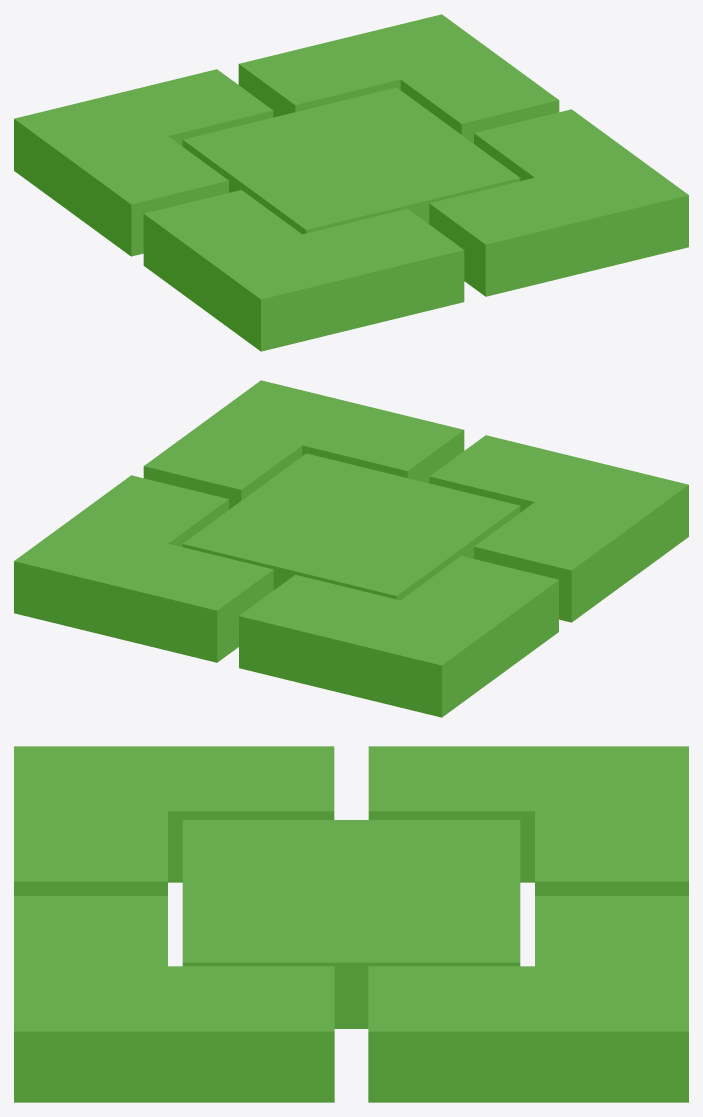
Rendered from enemies_spawn.fbx.
3 views of the same model, one above another, from view 1: azimuth 30°, elevation 25°; view 2: azimuth 150°, elevation 25°; view 3: azimuth 270°, elevation 25° (orthographic). The views are drawn at different scales.
Parts seen in each view (by area): view 1: Cube.001; view 2: Cube.001; view 3: Cube.001.
Part boxes in pixels (x1,y1,x2,y2): Cube.001: (14, 14, 688, 351); Cube.001: (14, 380, 688, 717); Cube.001: (14, 746, 688, 1102).
Bounding box in the file's own units: 195 × 22.69 × 195.
